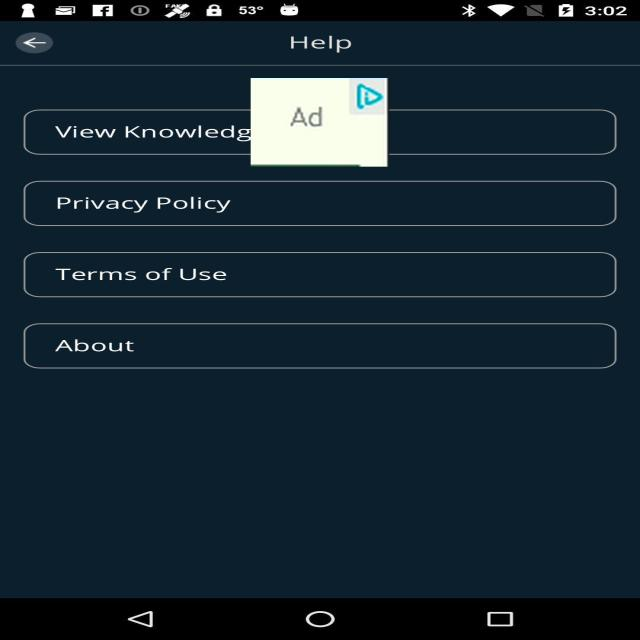sneaking: (251, 78, 389, 167)
